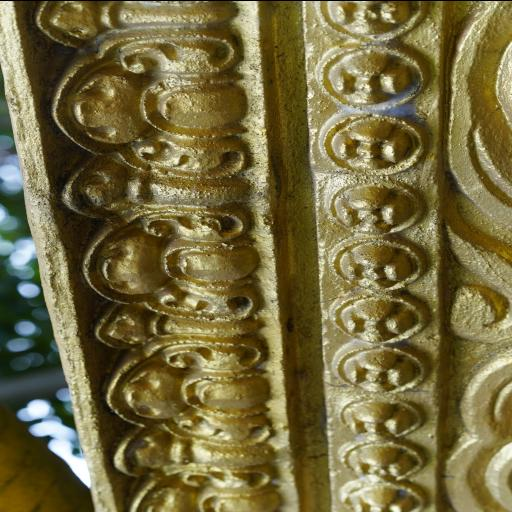hoa: (313, 105, 439, 181), (310, 41, 432, 113), (324, 173, 432, 238), (317, 289, 433, 347), (320, 234, 430, 290), (329, 340, 430, 398), (306, 0, 432, 41), (325, 394, 429, 443), (326, 434, 428, 480), (334, 479, 428, 512)
la: (32, 6, 250, 188), (66, 186, 257, 328), (96, 326, 274, 448), (123, 459, 282, 512)
